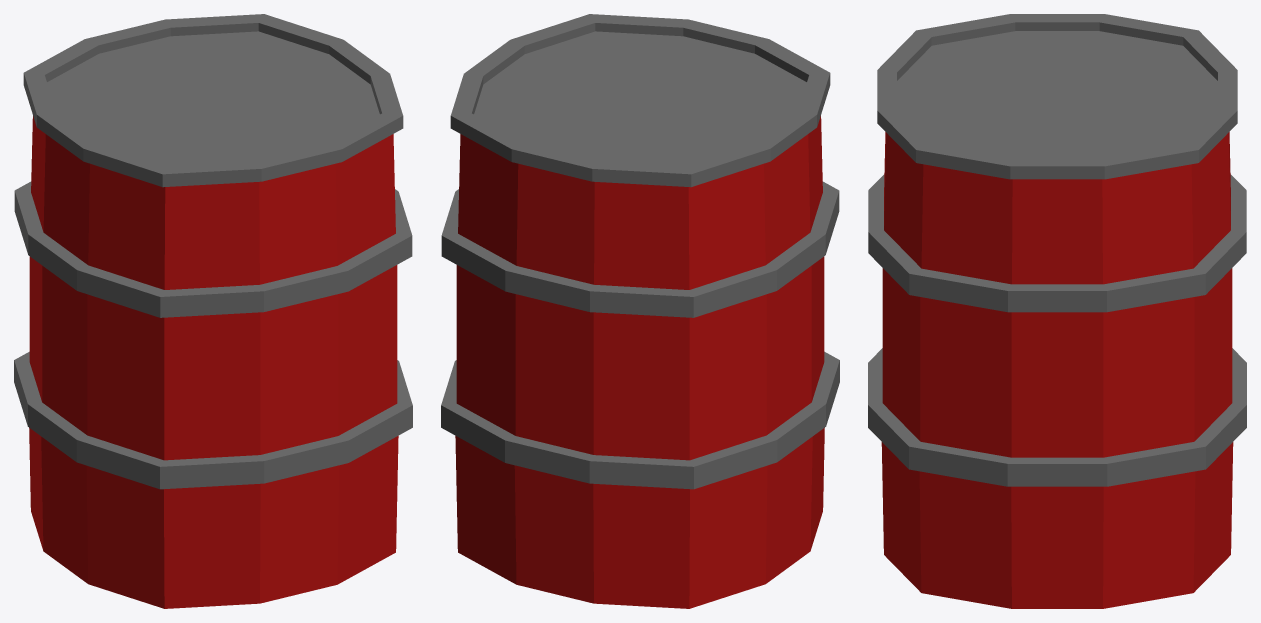
3 views of the same model, side by side, from view 1: azimuth 30°, elevation 25°; view 2: azimuth 150°, elevation 25°; view 3: azimuth 270°, elevation 25° (orthographic).
Parts seen in each view (by area): view 1: G-17; view 2: G-17; view 3: G-17.
Part boxes in pixels (x1=…): G-17: x1=14, y1=14, x2=412, y2=608; G-17: x1=441, y1=14, x2=839, y2=608; G-17: x1=868, y1=14, x2=1246, y2=608.
Bounding box in the file's own units: 145 × 188 × 145.
